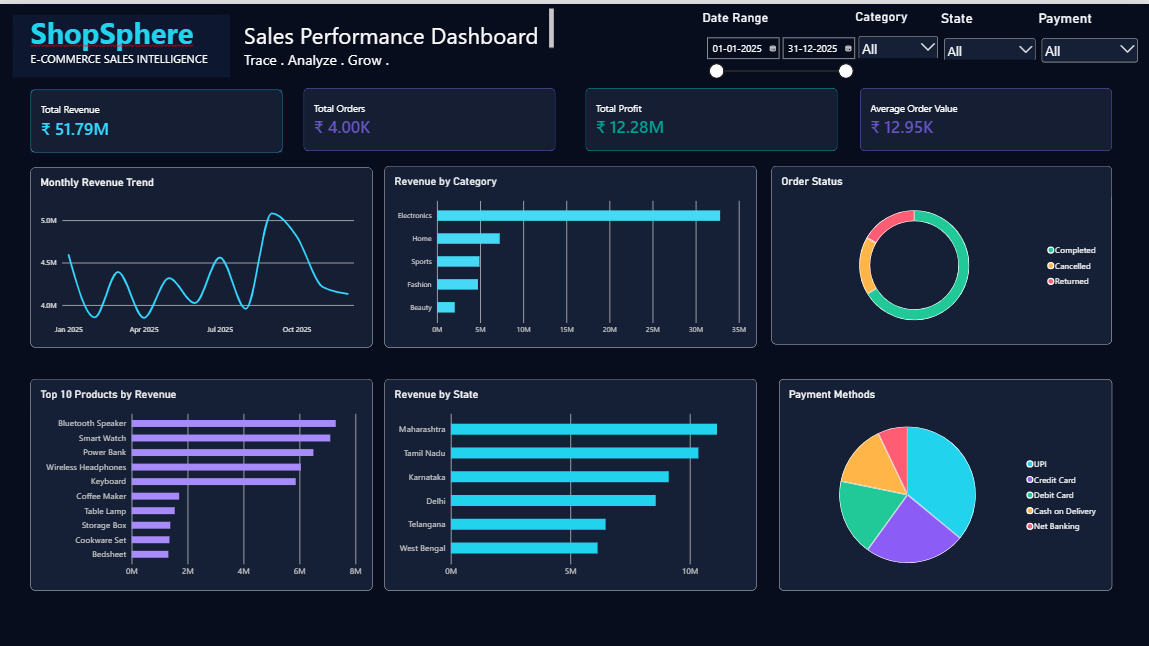

The page's visual inventory and layout, read from the dashboard file:
{"tool":"powerbi","page":{"name":"Page 1","canvas":[1920,1080],"ordinal":0},"visuals":[{"type":"textbox","box":[407.5,7.5,517.5,122.5],"z":0},{"type":"cardVisual","fields":{"Data":["Raw_Data.Total Revenue"]},"box":[53.7,141.5,420,105],"z":1000},{"type":"cardVisual","fields":{"Data":["Raw_Data.Total Orders"]},"box":[507.5,140,420,105],"z":2000},{"type":"cardVisual","fields":{"Data":["Raw_Data.Total Profit"]},"box":[977.5,140,420,105],"z":3000},{"type":"cardVisual","fields":{"Data":["Raw_Data.Average Order Value"]},"box":[1435,140,420,105],"z":4000},{"type":"lineChart","title":"Monthly Revenue Trend","fields":{"Category":["Raw_Data.Order_Date.Variation.Date Hierarchy.Year","Raw_Data.Order_Date.Variation.Date Hierarchy.Month"],"Y":["Sum(Raw_Data.Net_Sales)"]},"box":[52.5,272.5,570,300],"z":5000},{"type":"clusteredBarChart","title":"Revenue by Category","fields":{"Category":["Raw_Data.Category"],"Y":["Sum(Raw_Data.Net_Sales)"]},"box":[642.5,270,620,302.5],"z":6000},{"type":"clusteredBarChart","title":"Top 10 Products by Revenue ","fields":{"Category":["Raw_Data.Product_Name"],"Y":["Sum(Raw_Data.Net_Sales)"]},"box":[52.5,625,570,352.5],"z":7000},{"type":"clusteredBarChart","title":"Revenue by State","fields":{"Category":["Raw_Data.State"],"Y":["Sum(Raw_Data.Net_Sales)"]},"box":[642.5,625,620,352.5],"z":8000},{"type":"shape","box":[22.5,17.5,362.5,105],"z":9000},{"type":"textbox","box":[53.7,14.6,300,105],"z":10000},{"type":"slicer","title":"Date Range","fields":{"Values":["Raw_Data.Order_Date"]},"box":[1172.5,10,255,112.5],"z":11000},{"type":"slicer","title":"Category","fields":{"Values":["Raw_Data.Category"]},"box":[1427.5,7.5,142.5,82.5],"z":12000},{"type":"slicer","title":"State","fields":{"Values":["Raw_Data.State"]},"box":[1570,10,162.5,82.5],"z":13000},{"type":"slicer","title":"Payment","fields":{"Values":["Raw_Data.Payment_Method"]},"box":[1732.5,10,170,100],"z":14000},{"type":"donutChart","title":"Order Status","fields":{"Category":["Raw_Data.Order_Status"],"Y":["Count(Raw_Data.Order_ID)"]},"box":[1287.5,270,567.5,297.5],"z":15000},{"type":"pieChart","title":"Payment Methods","fields":{"Category":["Raw_Data.Payment_Method"],"Y":["CountNonNull(Raw_Data.Order_ID)"]},"box":[1300,625,555,352.5],"z":16000}]}

Visuals, with their boxes in screenshot pixels (x1, y1, x2, y2), scaled from the page's 1920x1080 canvas onto the 1149x646 screenshot:
textbox: box(244, 4, 554, 78)
cardVisual - Raw_Data.Total Revenue: box(32, 85, 283, 147)
cardVisual - Raw_Data.Total Orders: box(304, 84, 555, 147)
cardVisual - Raw_Data.Total Profit: box(585, 84, 836, 147)
cardVisual - Raw_Data.Average Order Value: box(859, 84, 1110, 147)
"Monthly Revenue Trend" lineChart: box(31, 163, 373, 342)
"Revenue by Category" clusteredBarChart: box(384, 162, 756, 342)
"Top 10 Products by Revenue " clusteredBarChart: box(31, 374, 373, 585)
"Revenue by State" clusteredBarChart: box(384, 374, 756, 585)
shape: box(13, 10, 230, 73)
textbox: box(32, 9, 212, 72)
"Date Range" slicer: box(702, 6, 854, 73)
"Category" slicer: box(854, 4, 940, 54)
"State" slicer: box(940, 6, 1037, 55)
"Payment" slicer: box(1037, 6, 1139, 66)
"Order Status" donutChart: box(770, 162, 1110, 339)
"Payment Methods" pieChart: box(778, 374, 1110, 585)
